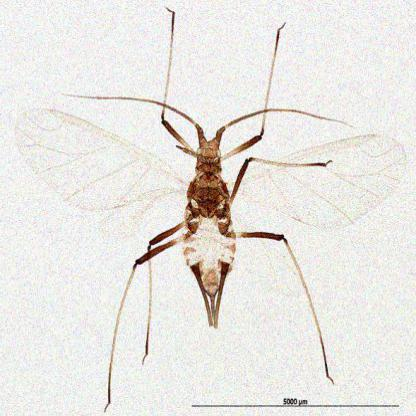uroleucon compositae: (14, 114, 406, 327)
